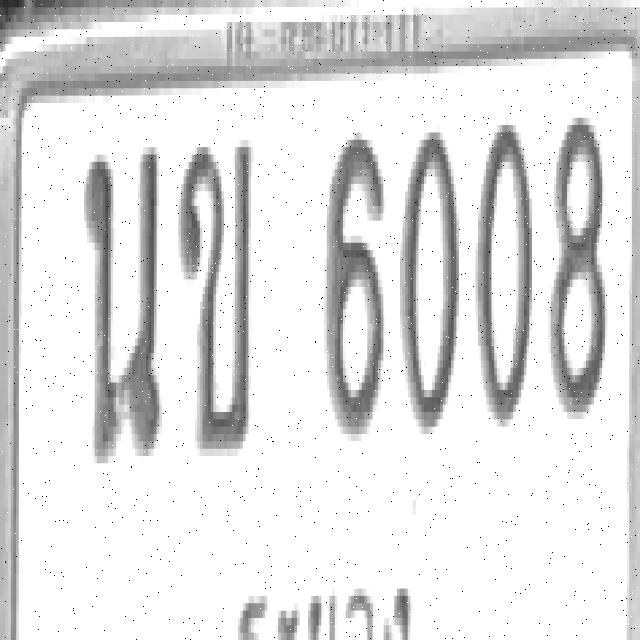0: (400, 125, 460, 434), (474, 118, 534, 426)
11KhorKhai: (176, 136, 253, 452)
34NorNu: (82, 140, 160, 463)
6: (324, 128, 384, 438)
8: (548, 110, 604, 420)
